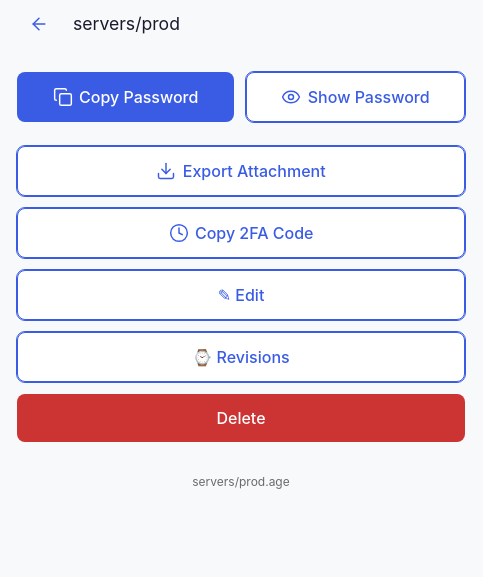
Test: EntryDetailPage › showPassword › shows error on failure
Click the button with aria-label "Show password" at [356, 97], box x1=246 y1=72 x2=465 y2=122
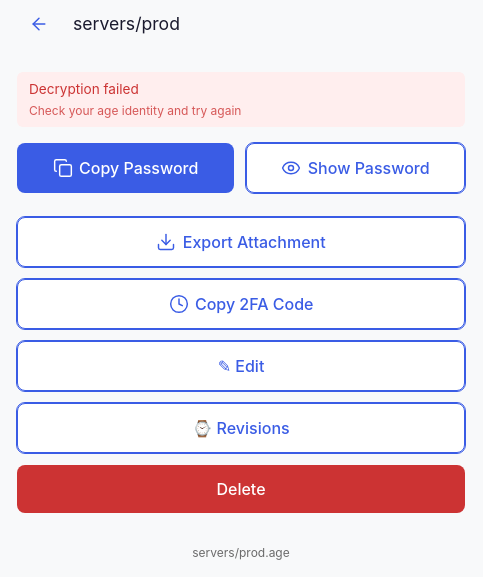
Expected: the message "Decryption failed Check your age identity and try again" is shown, x1=17 y1=72 x2=465 y2=127
